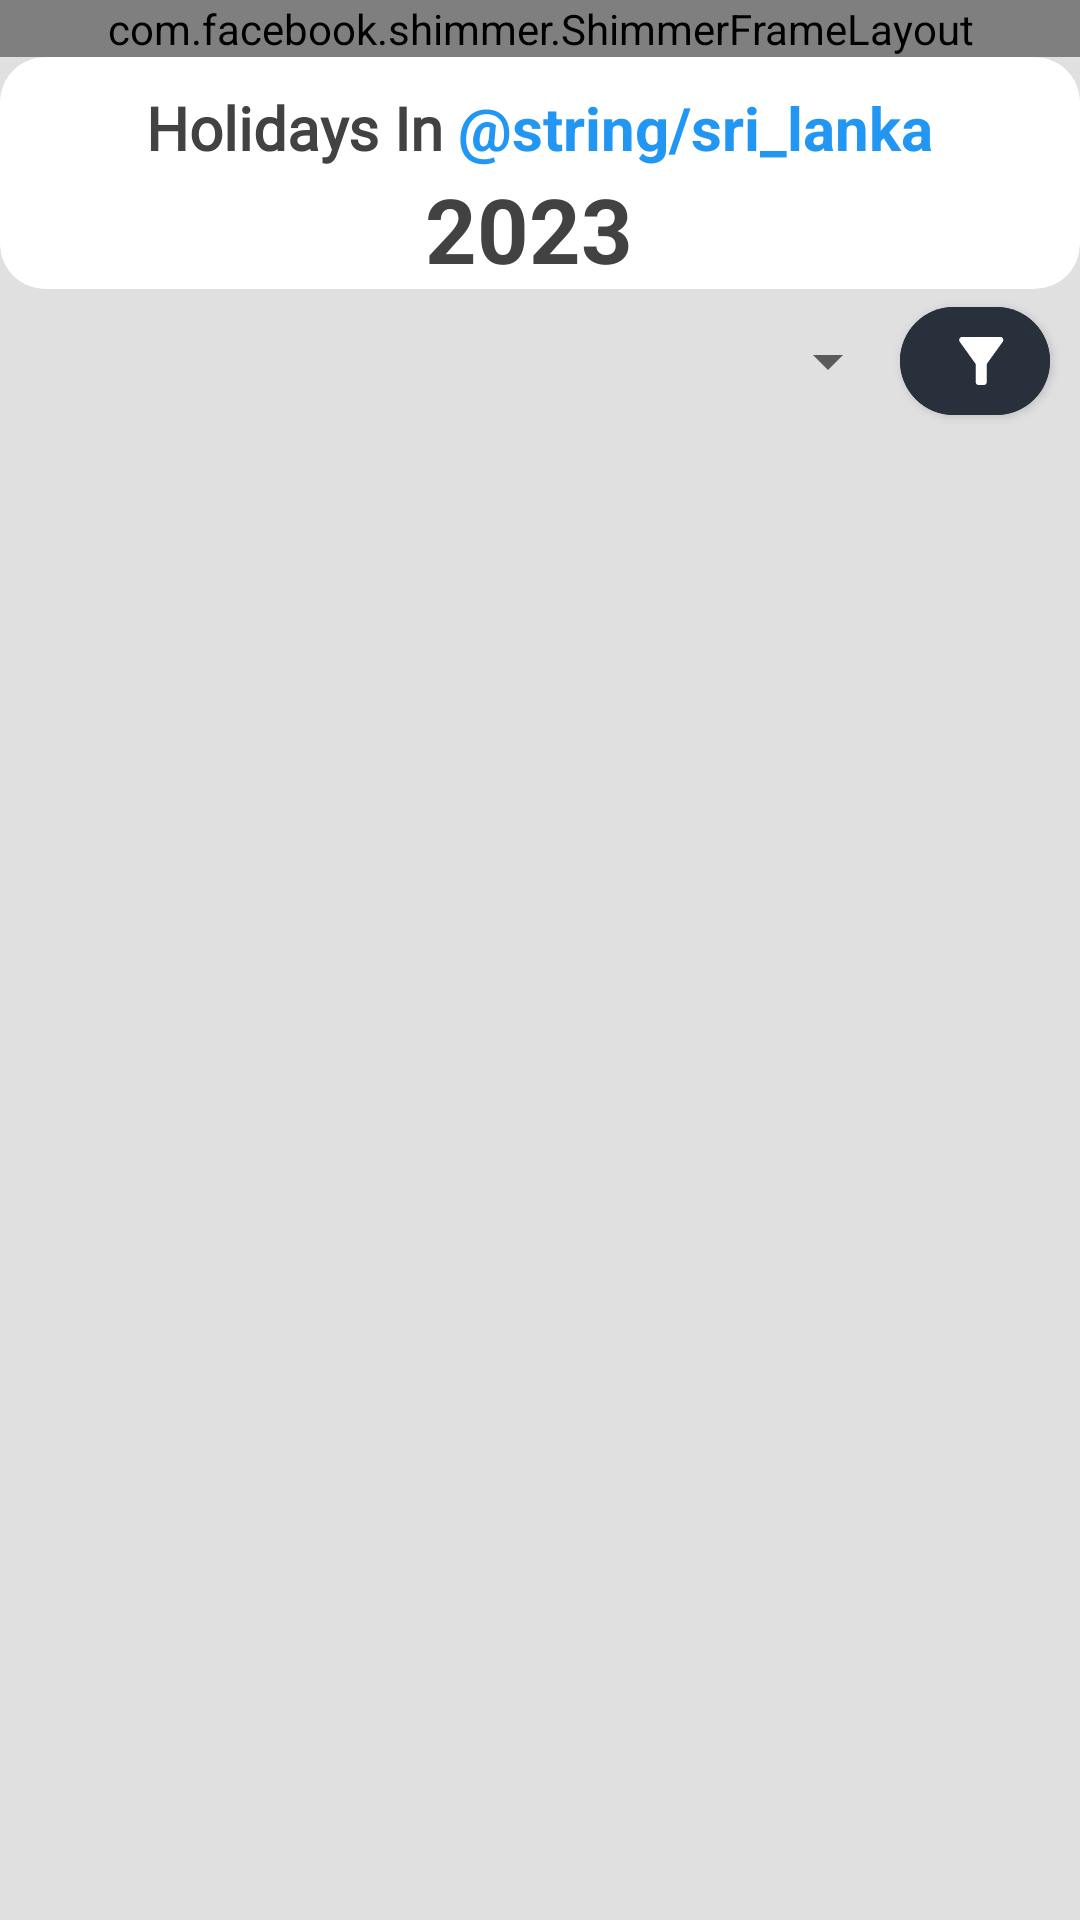

Icon bounding boxes for this 1080*1920 phone screenshot, format (left=x1, top=y1, right=x2, bottom=y2):
filter: (left=900, top=307, right=1050, bottom=415)
